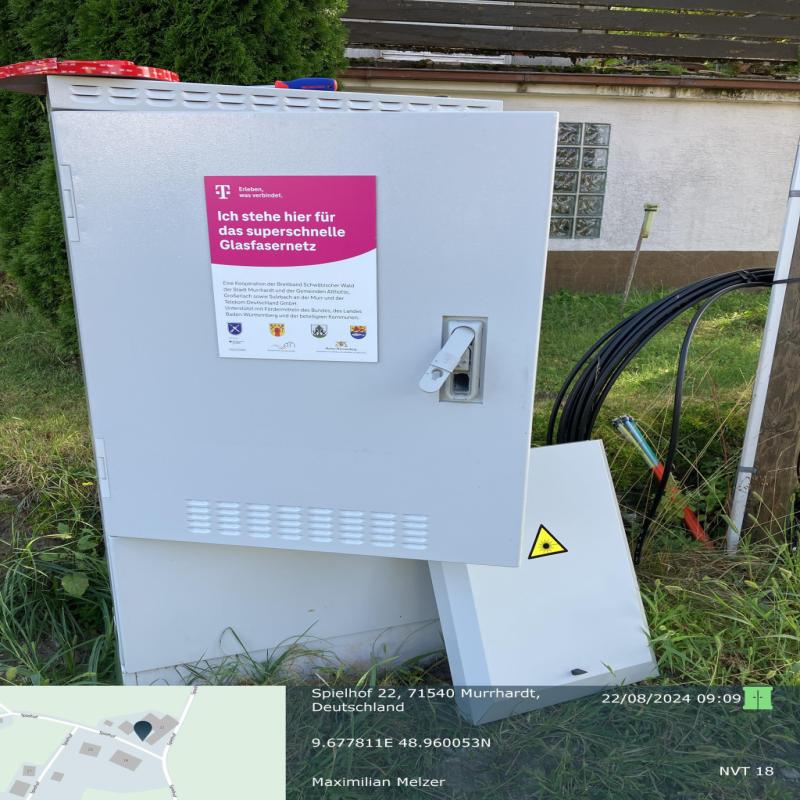NT-Gehause: (48, 74, 660, 687)
Steaker: (201, 170, 385, 364)
